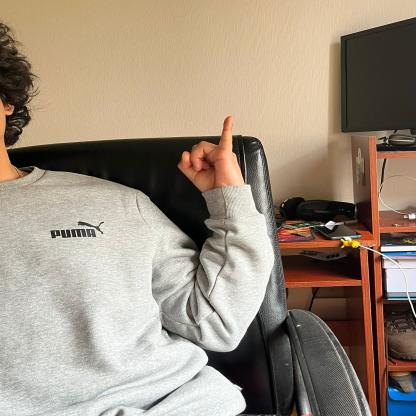I: (175, 112, 257, 206)
